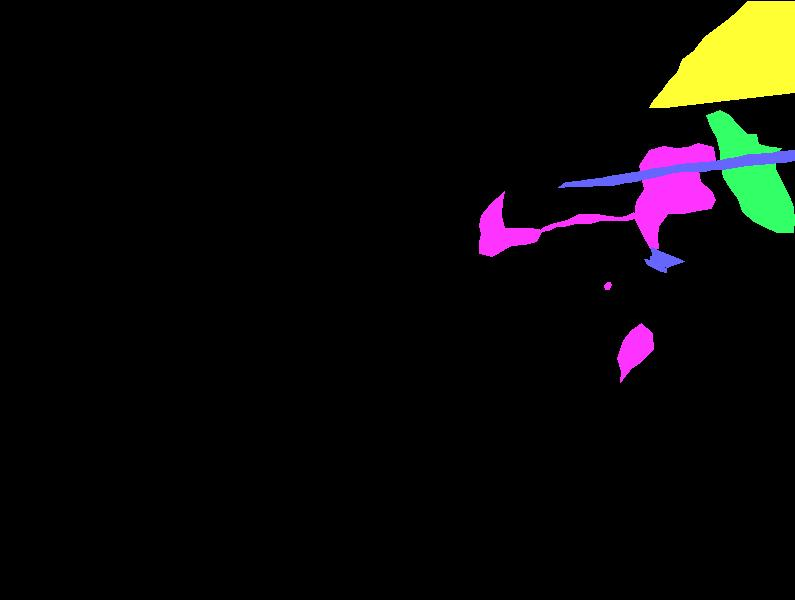Broken part: (706, 110, 794, 232)
Cracked: (649, 1, 794, 107)
Dent: (634, 143, 715, 248), (479, 191, 542, 256), (617, 323, 653, 382), (540, 212, 634, 231), (604, 282, 611, 289)
Scratch: (558, 150, 795, 187), (651, 247, 684, 265), (644, 259, 666, 272), (650, 256, 671, 267)
